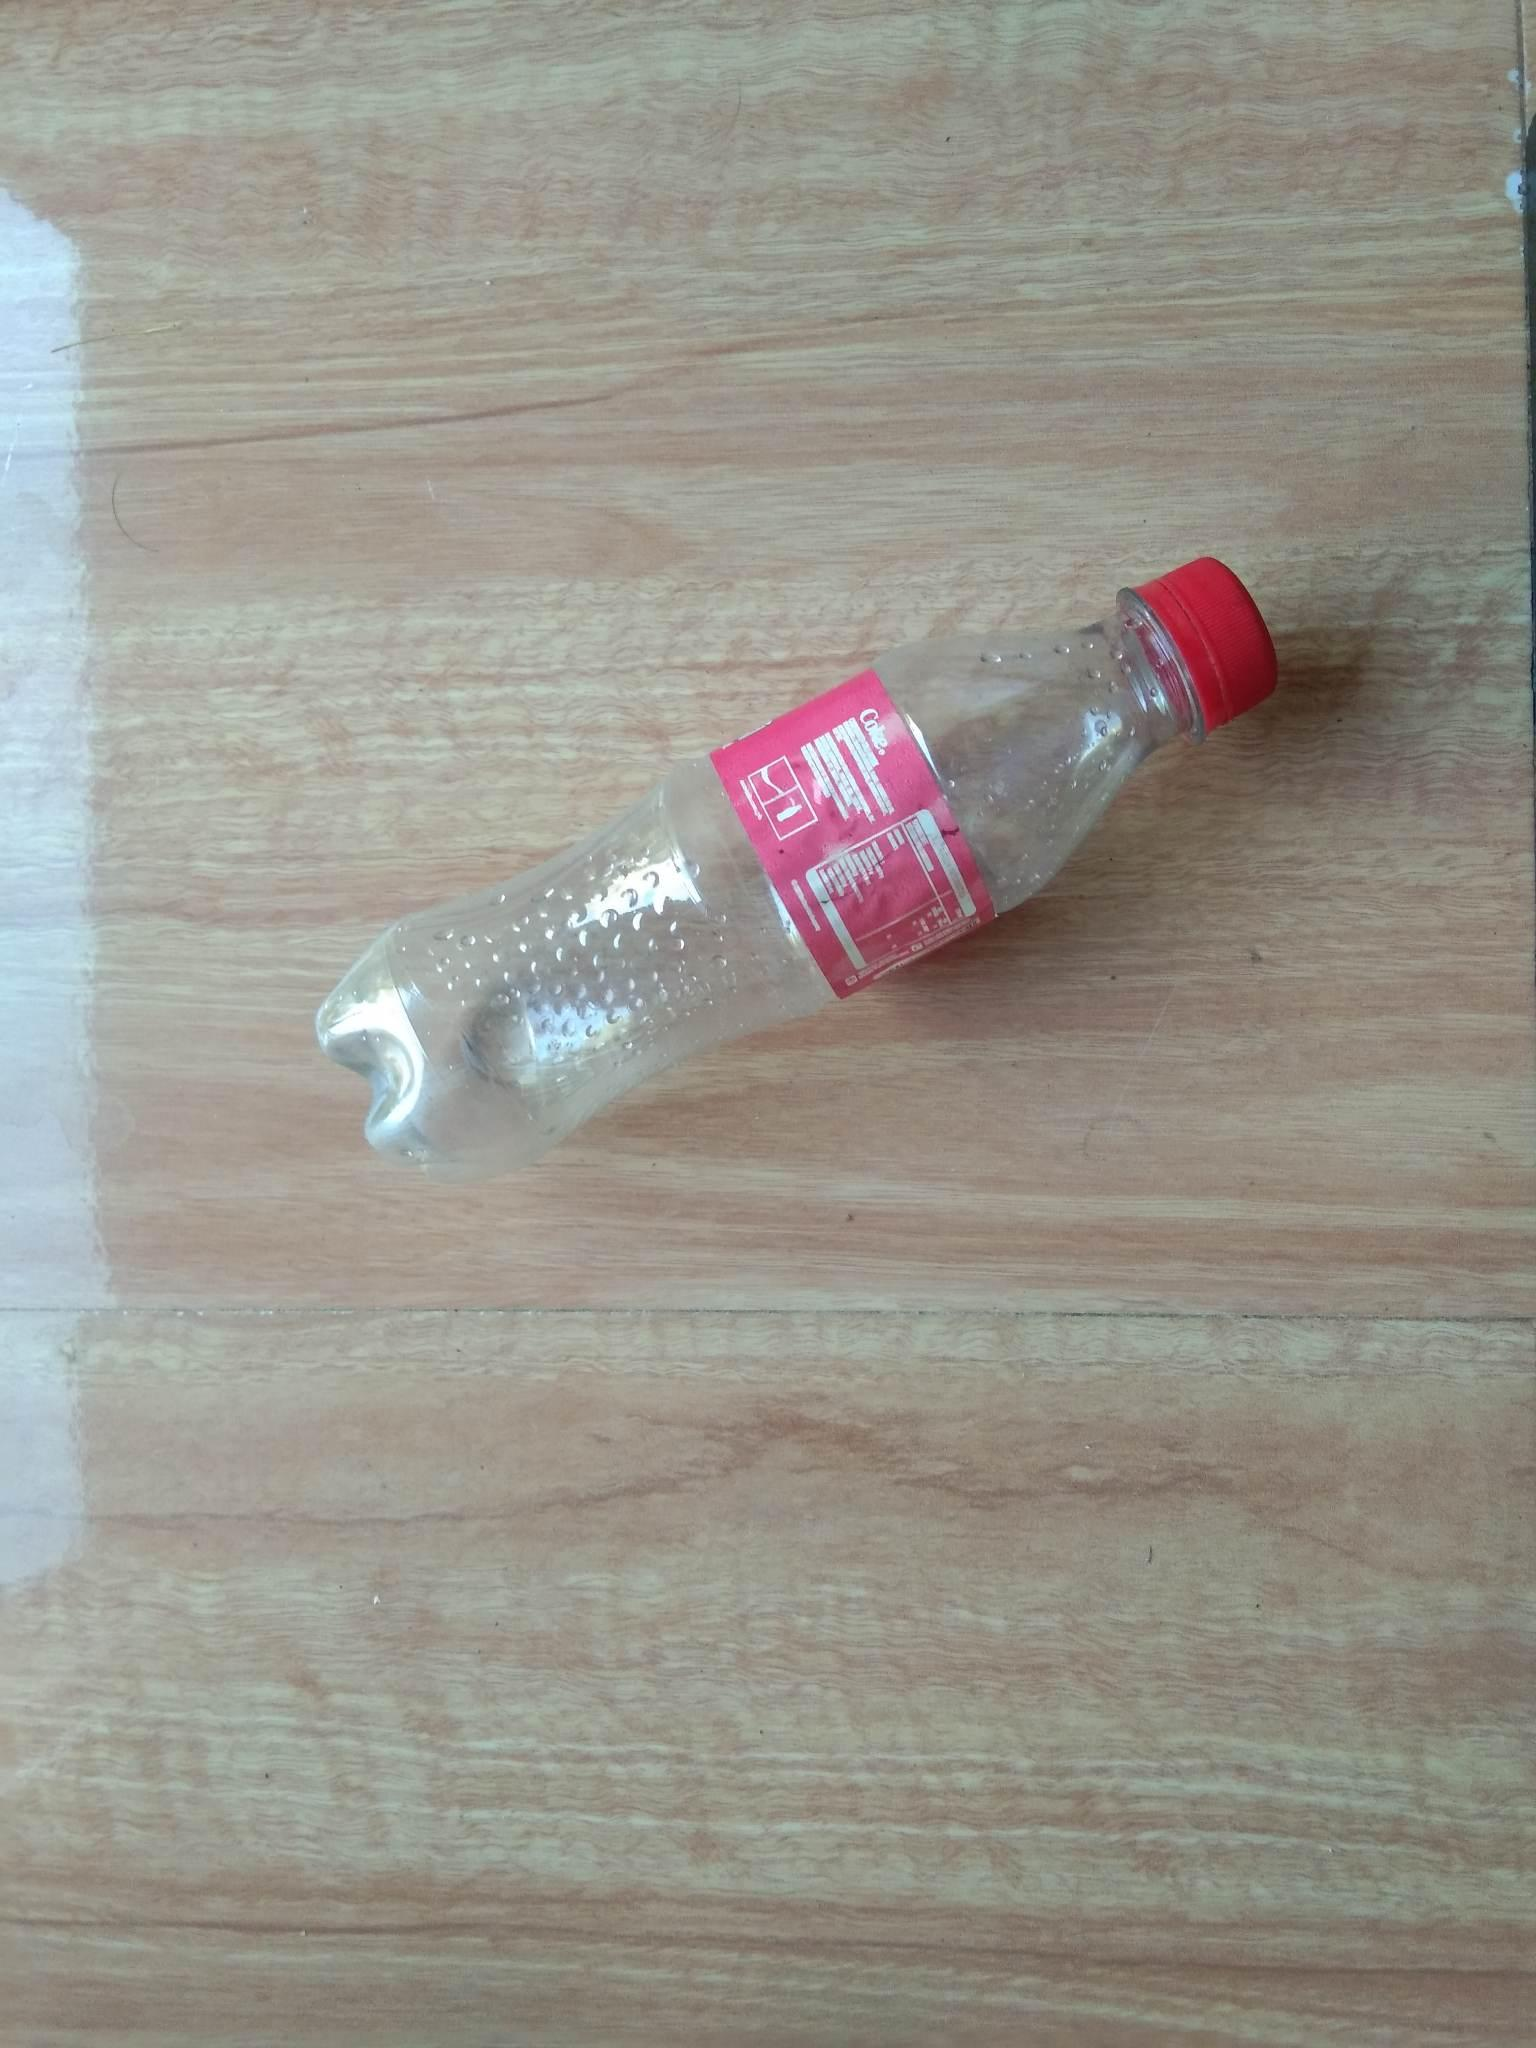plastic: (252, 531, 1355, 1276)
